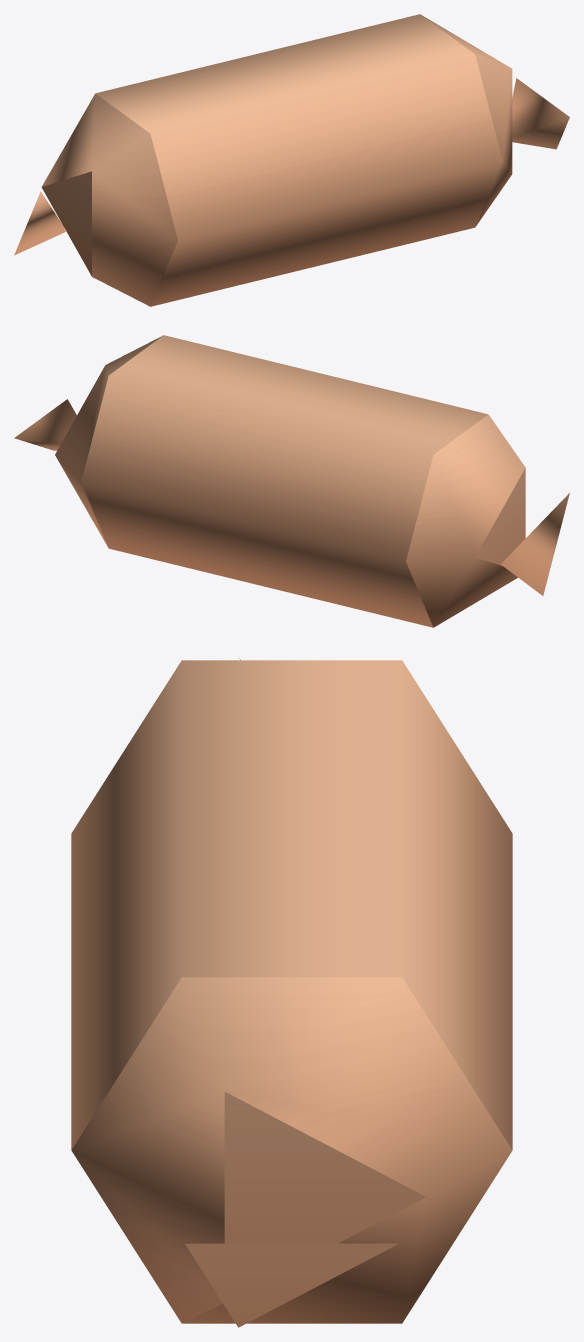
The model's file is cc0-sausage-lod1.glb.
The picture shows the model from 3 angles, top to bottom: view 1: azimuth 30°, elevation 25°; view 2: azimuth 150°, elevation 25°; view 3: azimuth 270°, elevation 25°; orthographic projection. The views are drawn at different scales.
Parts seen in each view (by area): view 1: part_0; view 2: part_0; view 3: part_0.
Part boxes in pixels (x1=…): part_0: x1=14, y1=14, x2=569, y2=306; part_0: x1=14, y1=335, x2=569, y2=627; part_0: x1=71, y1=658, x2=512, y2=1327.
Size of the model in its own units: 0.3707 by 0.1189 by 0.1373.
1 material, 1 textured.
